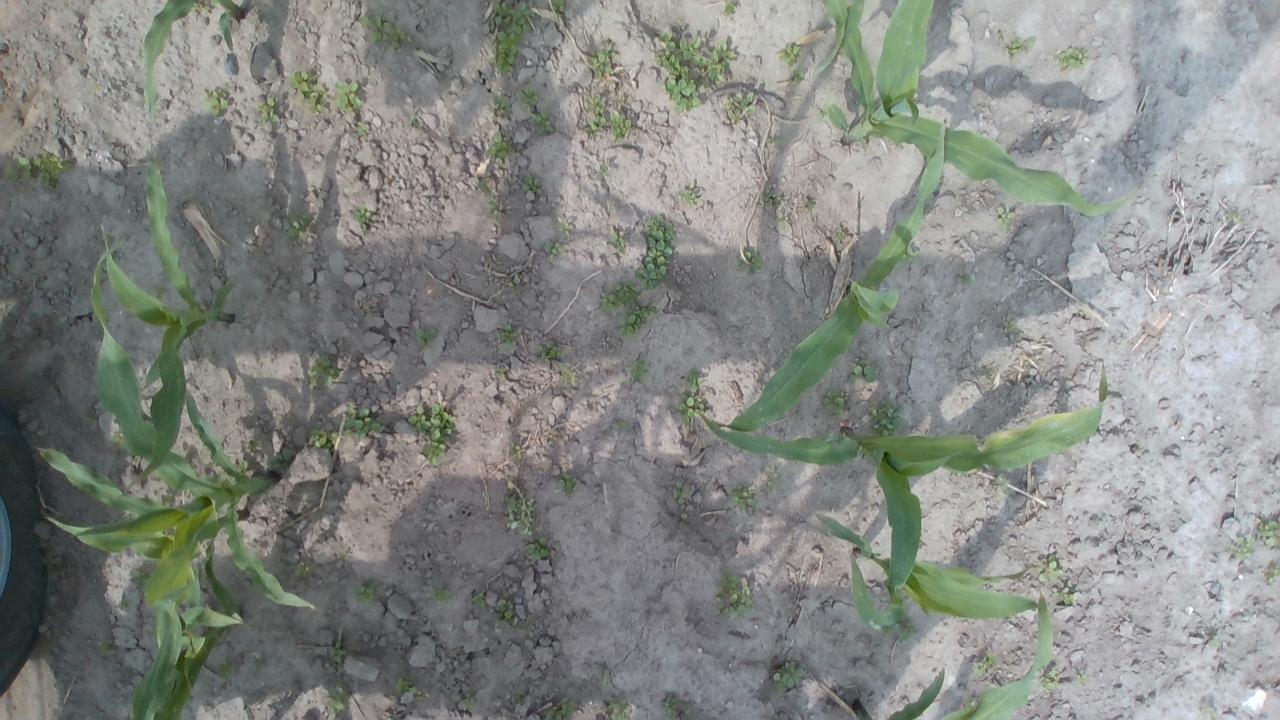Maize: (44, 234, 321, 712), (689, 362, 1104, 627), (724, 116, 951, 439), (826, 0, 1136, 215), (99, 161, 232, 488), (34, 443, 244, 624), (812, 508, 1058, 630), (859, 589, 1054, 720), (144, 0, 242, 124), (127, 623, 231, 720), (813, 0, 850, 75)
Weeds: (654, 30, 739, 113), (632, 214, 676, 290), (407, 402, 457, 467), (598, 282, 656, 338), (490, 0, 534, 73), (712, 567, 755, 619), (286, 66, 330, 116), (359, 15, 411, 49), (342, 402, 386, 441), (676, 369, 706, 425), (32, 151, 72, 188), (868, 397, 904, 437), (505, 493, 537, 536), (582, 94, 608, 137), (773, 660, 807, 692), (485, 130, 515, 166), (724, 91, 758, 122), (307, 354, 338, 386), (1052, 46, 1091, 71), (588, 42, 616, 76), (333, 78, 359, 114), (200, 86, 229, 118), (1255, 517, 1280, 553), (734, 250, 767, 274), (1001, 35, 1034, 59), (490, 94, 515, 125), (1037, 555, 1062, 585), (609, 109, 632, 140), (730, 485, 756, 512), (285, 213, 310, 241), (1226, 534, 1254, 559), (256, 96, 280, 125), (820, 388, 844, 417), (352, 200, 372, 234), (326, 686, 352, 712), (526, 536, 552, 562), (624, 355, 649, 382), (3, 156, 31, 180), (847, 359, 875, 383), (606, 226, 627, 256), (974, 651, 999, 676), (556, 362, 580, 388), (530, 110, 554, 136), (1034, 667, 1058, 693), (329, 641, 348, 673), (556, 471, 580, 496), (413, 326, 438, 350), (606, 697, 632, 720), (778, 42, 802, 66), (312, 428, 339, 449), (494, 598, 514, 626), (544, 239, 568, 262), (353, 580, 377, 603), (496, 324, 520, 347), (103, 430, 127, 453), (537, 338, 562, 360), (679, 180, 700, 206), (898, 242, 921, 265), (516, 86, 540, 108), (990, 475, 1014, 497), (662, 695, 683, 720), (893, 621, 918, 641), (996, 204, 1014, 231), (756, 188, 781, 207), (671, 480, 690, 504), (214, 660, 236, 680), (148, 280, 170, 300), (520, 172, 542, 192), (394, 677, 417, 696), (427, 586, 451, 604), (1053, 585, 1073, 606), (554, 214, 573, 236), (484, 197, 501, 221), (265, 454, 290, 470), (560, 696, 580, 716), (719, 0, 740, 19), (1262, 561, 1280, 583), (458, 690, 477, 710), (957, 268, 975, 288), (786, 68, 806, 86), (98, 638, 117, 656), (292, 560, 310, 579), (130, 569, 150, 586), (764, 474, 782, 492), (764, 132, 783, 149), (1002, 313, 1016, 335), (190, 0, 212, 13), (772, 210, 786, 230), (594, 163, 610, 180), (234, 460, 253, 474), (508, 442, 522, 461), (1206, 635, 1222, 651), (472, 591, 486, 609), (517, 616, 532, 632), (548, 0, 566, 13), (1076, 668, 1089, 686), (831, 227, 846, 242), (246, 438, 262, 452), (494, 366, 509, 380), (816, 105, 830, 120), (1225, 212, 1244, 223), (356, 122, 369, 138), (475, 178, 489, 192), (546, 710, 564, 720), (611, 420, 630, 429), (516, 691, 526, 707), (804, 197, 816, 210), (602, 668, 610, 686), (408, 114, 419, 126), (338, 550, 349, 561), (684, 708, 693, 718), (986, 371, 996, 380), (773, 714, 783, 720)
